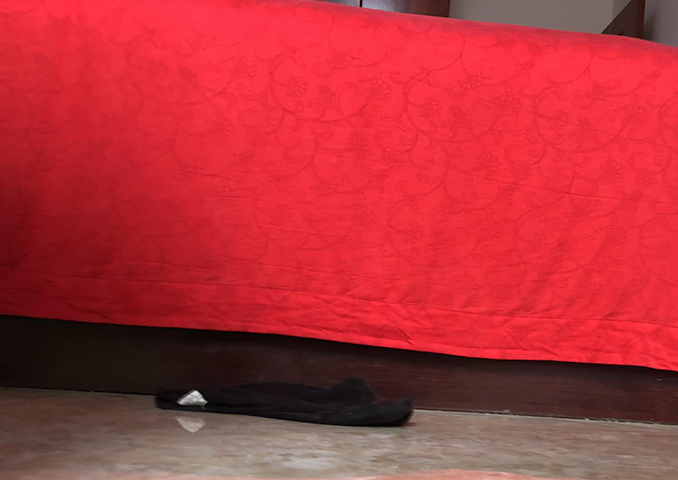bed: (1, 1, 678, 424)
socks: (154, 369, 416, 428)
